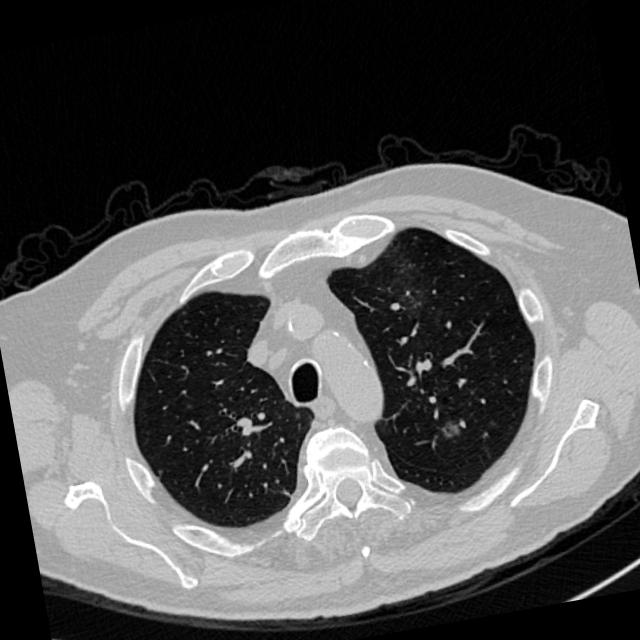nodule: (429, 408, 470, 448)
